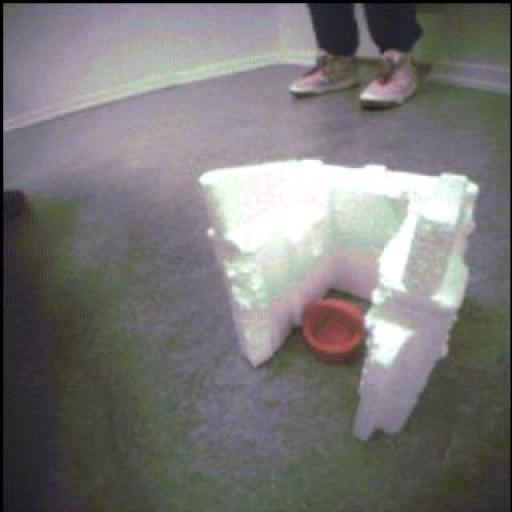Bucket: (298, 299, 370, 365)
